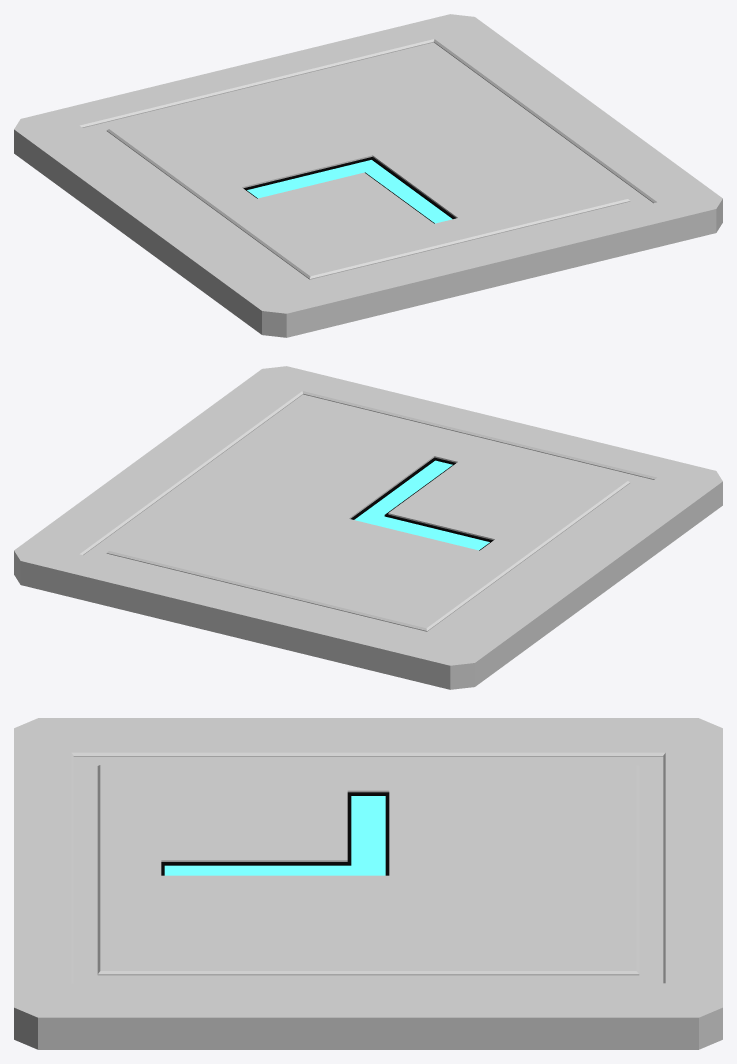
The model's file is SM_Floor_Line_Corner.glb.
The picture shows the model from 3 angles, top to bottom: view 1: azimuth 30°, elevation 25°; view 2: azimuth 150°, elevation 25°; view 3: azimuth 270°, elevation 25°; orthographic projection. The views are drawn at different scales.
Parts seen in each view (by area): view 1: SM_Floor_Line_Corner.001; view 2: SM_Floor_Line_Corner.001; view 3: SM_Floor_Line_Corner.001.
Part boxes in pixels (bbox=[...]): SM_Floor_Line_Corner.001: bbox=[14, 14, 722, 337]; SM_Floor_Line_Corner.001: bbox=[14, 366, 722, 689]; SM_Floor_Line_Corner.001: bbox=[14, 718, 722, 1049].
Bounding box in the file's own units: 4 × 0.2 × 4.
